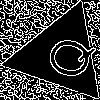Q: (35, 30, 98, 84)
